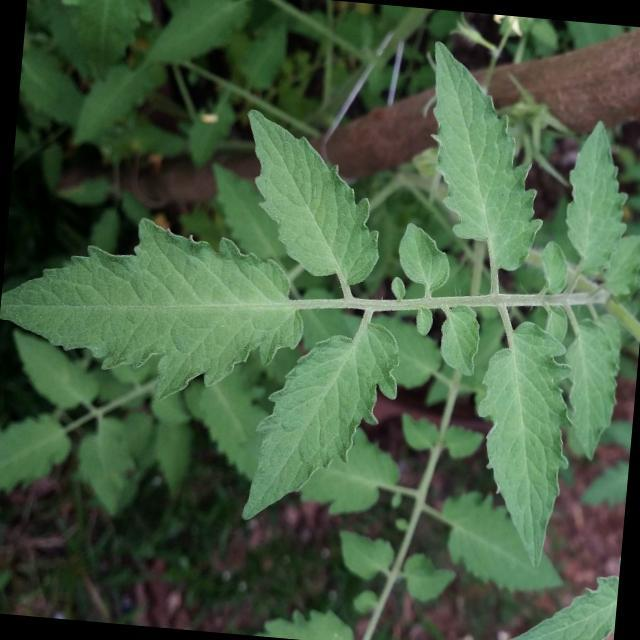Tomato healthy leaf: (0, 204, 317, 413), (243, 312, 404, 534), (414, 41, 557, 274), (462, 316, 581, 573), (232, 109, 390, 290), (560, 116, 636, 278), (556, 319, 626, 465), (395, 224, 455, 290), (437, 304, 482, 376)
